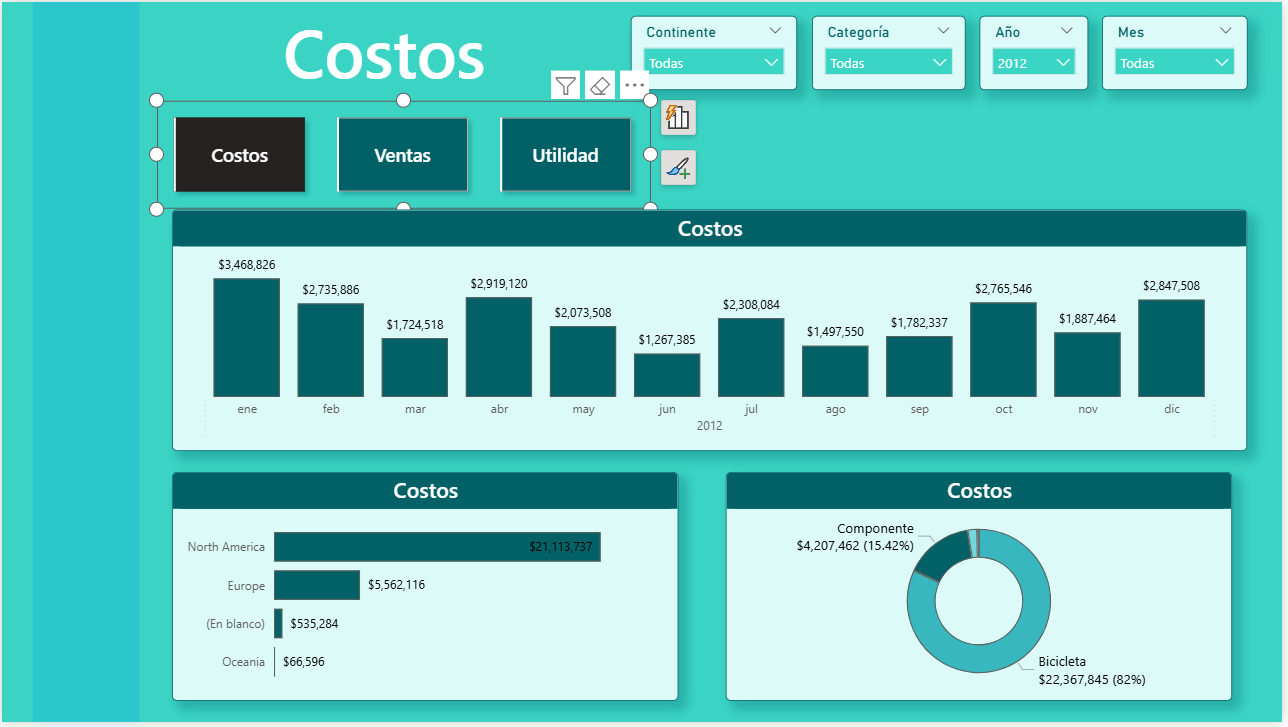

The dashboard page shown, as its layout file describes it:
{"tool":"powerbi","page":{"name":"Costos, Ventas y Utilidades","canvas":[1280,720],"ordinal":3},"visuals":[{"type":"textbox","box":[155.2,3.7,454.5,94.8],"z":0},{"type":"slicer","fields":{"Values":["DimSalesTerritory.SalesTerritoryGroup"]},"box":[628.8,14.3,166.3,74.1],"z":1000},{"type":"slicer","fields":{"Values":["DimProductCategory.SpanishProductCategoryName"]},"box":[809.4,14.3,153.3,74.1],"z":2000},{"type":"slicer","fields":{"Values":["DimCalendario.Año"]},"box":[977,14.3,109.1,74.1],"z":3000},{"type":"slicer","fields":{"Values":["DimCalendario.Mes"]},"box":[1100.5,14.3,145.5,74.1],"z":4000},{"type":"advancedSlicerVisual","fields":{"Values":["Tipo de Medida.nom_tip_vc"]},"box":[155.2,98.5,493.9,108.4],"z":5000},{"type":"clusteredColumnChart","fields":{"Category":["DimCalendario.Año","DimCalendario.MesAbr"],"Y":["Medidas.Totales x Selección"]},"box":[170,206.9,1075.3,241.4],"z":6000},{"type":"clusteredBarChart","fields":{"Category":["DimSalesTerritory.SalesTerritoryGroup"],"Y":["Medidas.Totales x Selección"]},"box":[170,470.5,506.2,229.1],"z":7000},{"type":"donutChart","fields":{"Y":["Medidas.Totales x Selección"],"Category":["DimProductCategory.SpanishProductCategoryName"]},"box":[724.3,470.5,506.2,229.1],"z":8000}]}

Visuals, with their boxes on the page's 1280x720 design canvas (x1, y1, x2, y2). These are canvas units, not pixel positions in the 1288x727 screenshot, which may show the page scaled, cropped or inside an application window:
textbox: (x1=155, y1=4, x2=610, y2=98)
slicer - DimSalesTerritory.SalesTerritoryGroup: (x1=629, y1=14, x2=795, y2=88)
slicer - DimProductCategory.SpanishProductCategoryName: (x1=809, y1=14, x2=963, y2=88)
slicer - DimCalendario.Año: (x1=977, y1=14, x2=1086, y2=88)
slicer - DimCalendario.Mes: (x1=1100, y1=14, x2=1246, y2=88)
advancedSlicerVisual - Tipo de Medida.nom_tip_vc: (x1=155, y1=98, x2=649, y2=207)
clusteredColumnChart - DimCalendario.Año x DimCalendario.MesAbr: (x1=170, y1=207, x2=1245, y2=448)
clusteredBarChart - DimSalesTerritory.SalesTerritoryGroup x Medidas.Totales x Selección: (x1=170, y1=470, x2=676, y2=700)
donutChart - Medidas.Totales x Selección x DimProductCategory.SpanishProductCategoryName: (x1=724, y1=470, x2=1230, y2=700)
